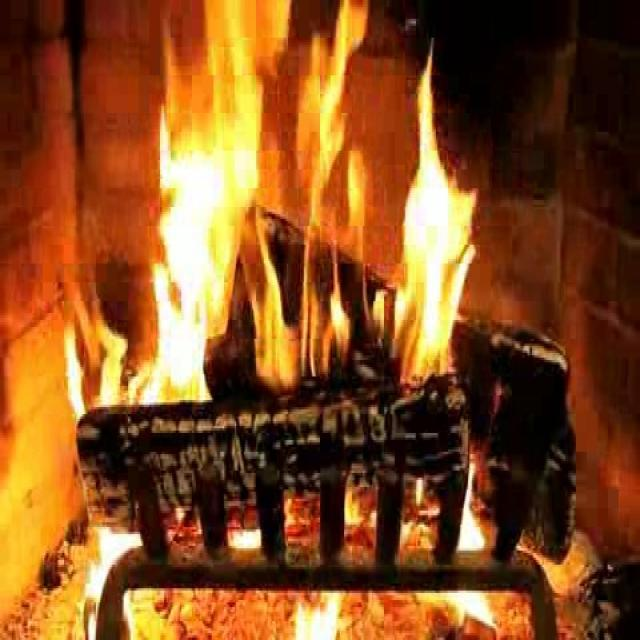Fire: (158, 0, 472, 388), (81, 515, 156, 640), (66, 313, 128, 412), (462, 450, 492, 640)
